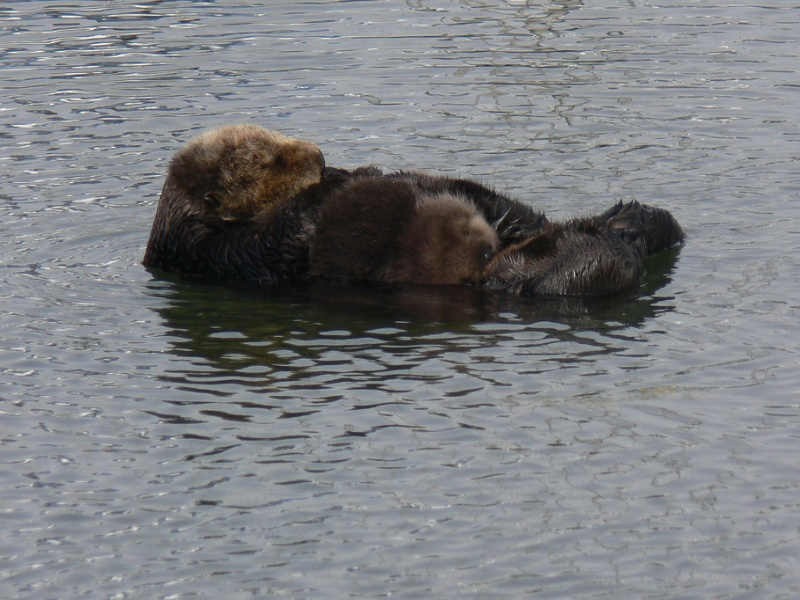minkish: (160, 118, 329, 226)
